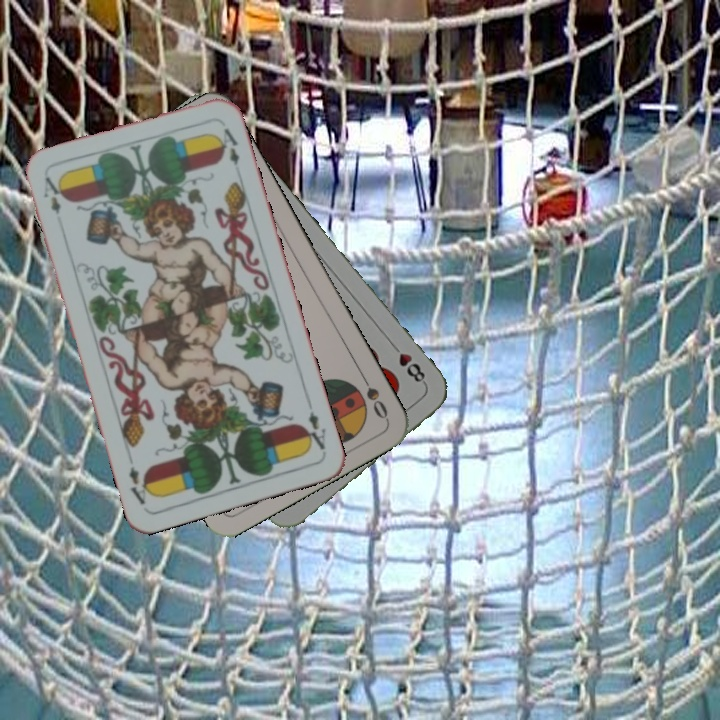EA: (299, 406, 328, 453), (39, 172, 65, 217)
H8: (386, 338, 429, 388)
SO: (355, 367, 391, 422)
